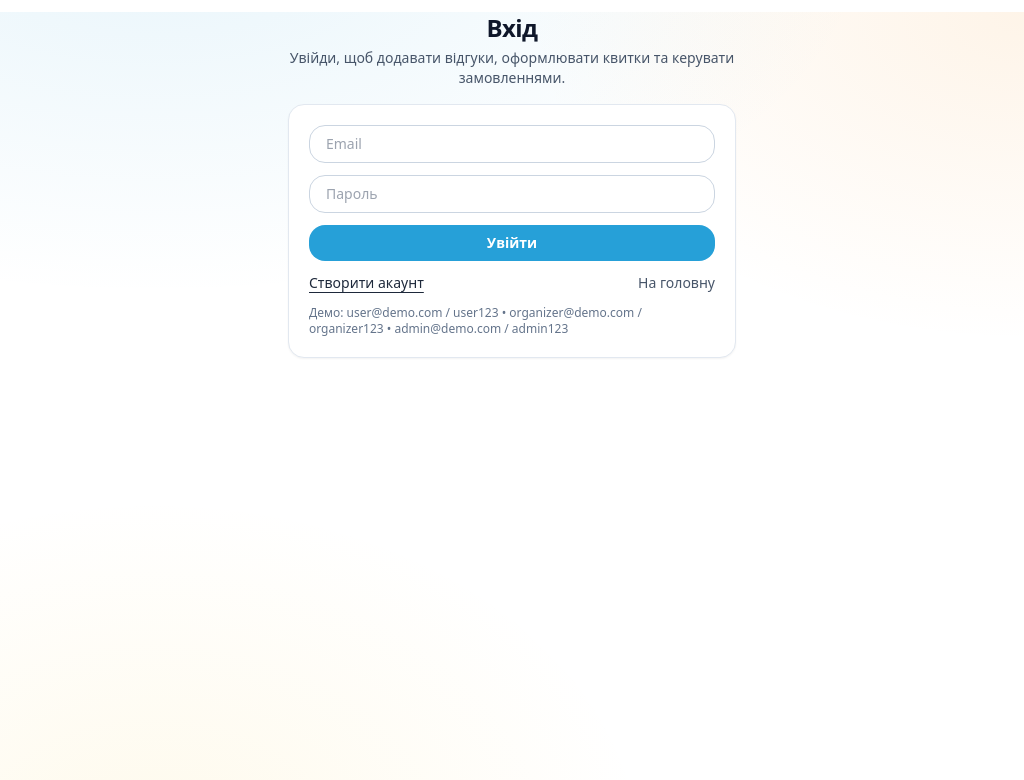
Test case: LoginPage › shows error when login fails
Type "user@demo.com" into the field with placeholder "Email" at (512, 144), box x1=309 y1=125 x2=715 y2=163
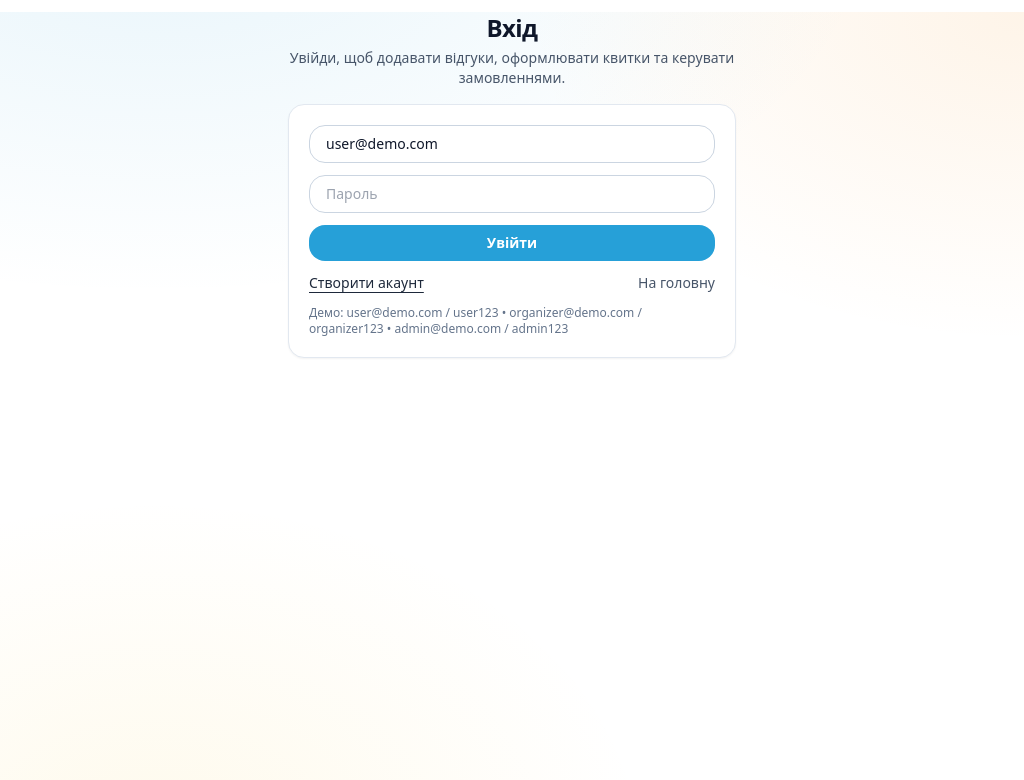
Type "wrong12" into the password field with placeholder "Пароль" at (512, 194), box x1=309 y1=175 x2=715 y2=213
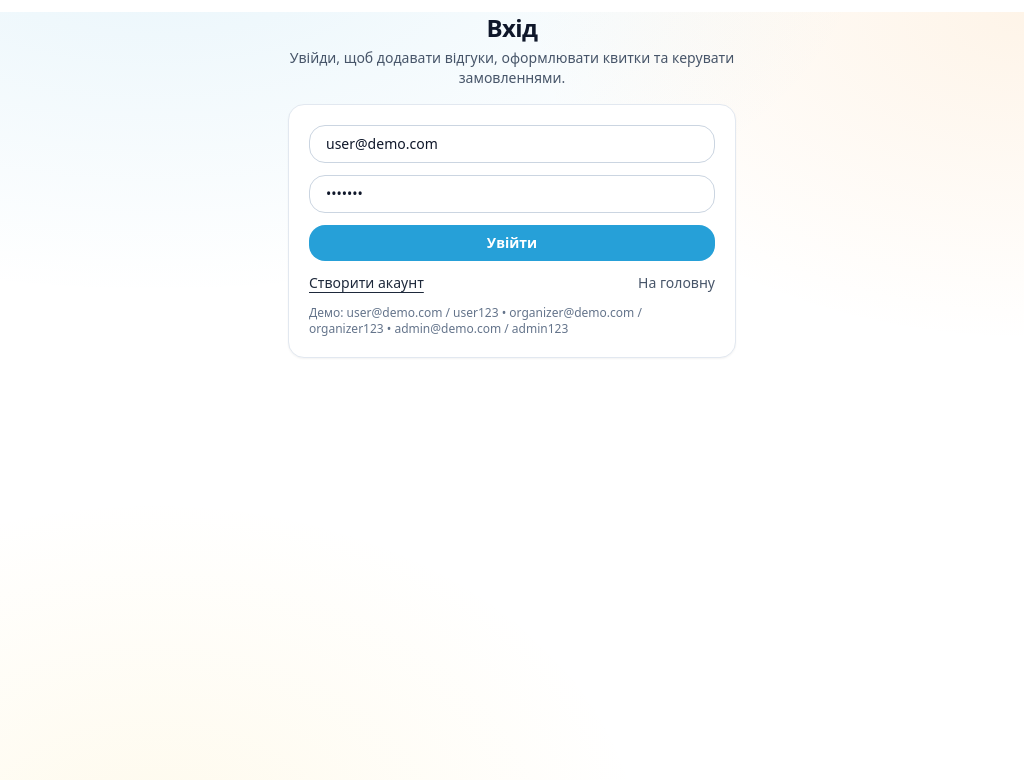
Click the button "Увійти" at (512, 243), box x1=309 y1=225 x2=715 y2=261
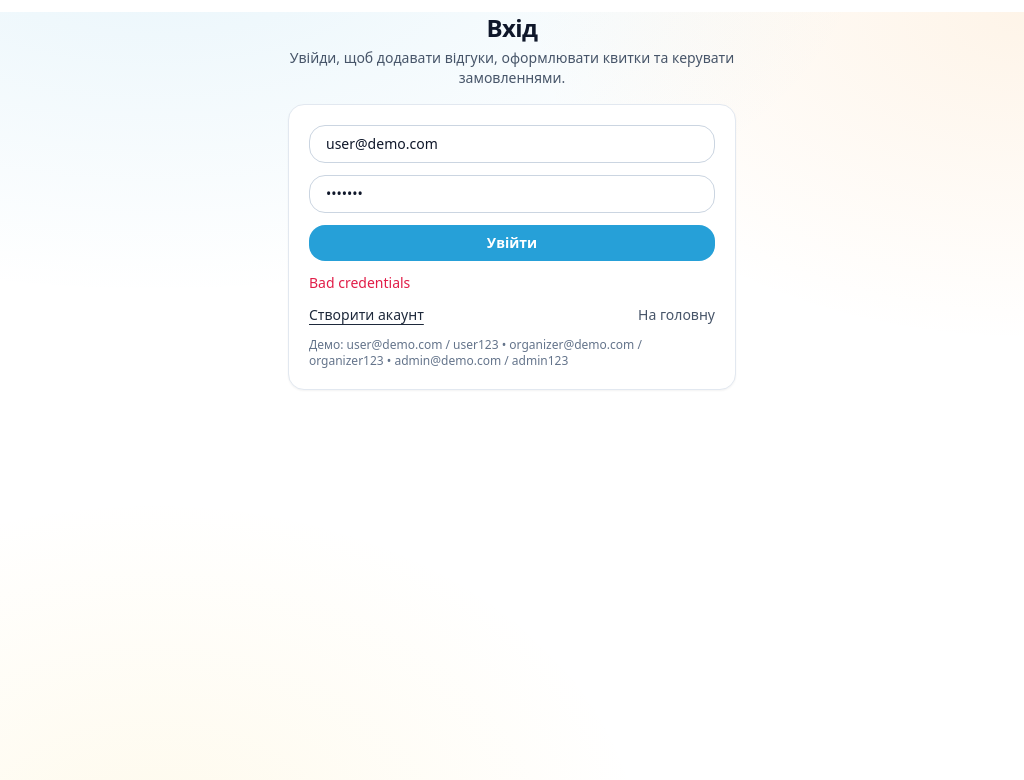
Now the text "Bad credentials" is shown, box x1=309 y1=273 x2=410 y2=292
